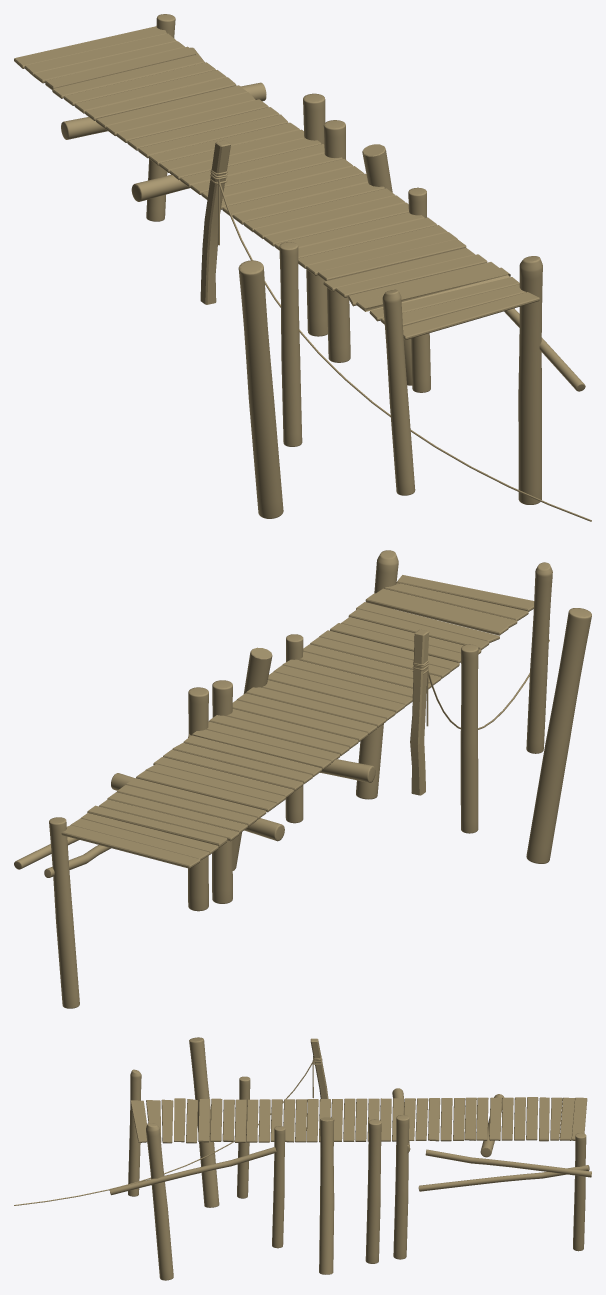
File: Bridge.FBX
3 views of the same model, one above another, from view 1: azimuth 30°, elevation 25°; view 2: azimuth 150°, elevation 25°; view 3: azimuth 270°, elevation 25° (orthographic). The views are drawn at different scales.
Visible parts, largest first — view 1: Object679, Object718, Group66880, Object690, Object645, Object655, Box131, Object700, Object701, Object640, Line681144, Object692 (+4 smaller); view 2: Object679, Object718, Group66880, Object650, Object645, Object655, Box131, Object690, Object700, Object701, Object692, Object640 (+3 smaller); view 3: Object679, Object718, Object692, Object690, Group66880, Object700, Object701, Object640, Object650, Object730, Object645, Object685 (+4 smaller).
Boxes of the visible parts, x1,y1,x2,y2 form: Object679: (14,26,498,306); Object718: (85,77,539,339); Group66880: (238,260,283,518); Object690: (518,256,542,504); Object645: (382,289,415,495); Object655: (279,242,302,446); Box131: (200,140,230,304); Object700: (323,120,350,362); Object701: (303,93,327,336); Object640: (408,187,430,392); Line681144: (210,169,591,521); Object692: (362,144,412,385); Object679: (61,602,499,868); Object718: (126,575,534,819); Group66880: (526,608,591,863); Object650: (49,817,79,1008); Object645: (526,562,552,753); Object655: (460,644,478,833); Box131: (410,629,429,795); Object690: (356,550,398,799); Object700: (212,680,232,903); Object701: (188,687,208,911); Object692: (232,647,272,870); Object640: (285,634,303,823); Object679: (186,1097,587,1143); Object718: (130,1097,501,1143); Object692: (319,1117,334,1274); Object690: (146,1123,173,1280); Group66880: (189,1037,219,1207); Object700: (365,1119,381,1263); Object701: (393,1115,409,1259); Object640: (272,1126,285,1248); Object650: (573,1133,586,1251); Object730: (109,1147,276,1195); Object645: (128,1069,141,1196); Object685: (425,1149,591,1177).
Size of the model in its own units: 189 by 192 by 544.
